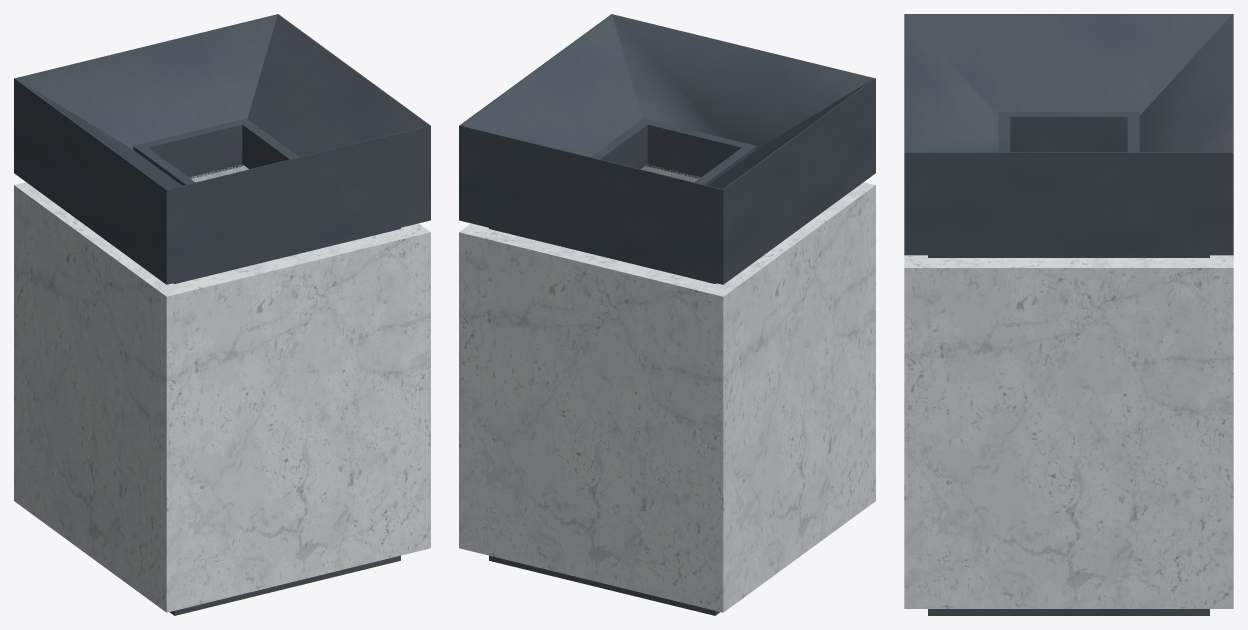
File: bote-basura-01.obj
3 views of the same model, side by side, from view 1: azimuth 30°, elevation 25°; view 2: azimuth 150°, elevation 25°; view 3: azimuth 270°, elevation 25° (orthographic). The views are drawn at different scales.
Visible parts, largest first — view 1: Box008, Box010, Box011, Box007, Box009; view 2: Box008, Box010, Box011, Box007; view 3: Box008, Box010, Box011, Box007, Box009.
Part boxes in pixels (x1,y1,x2,y2): Box008: (14, 165, 430, 612); Box010: (14, 14, 430, 284); Box011: (133, 118, 298, 185); Box007: (169, 555, 400, 615); Box009: (174, 164, 400, 283); Box008: (459, 164, 875, 612); Box010: (459, 14, 875, 284); Box011: (591, 118, 756, 185); Box007: (489, 555, 720, 615); Box008: (904, 255, 1233, 608); Box010: (904, 14, 1233, 255); Box011: (998, 112, 1139, 152); Box007: (928, 609, 1209, 615); Box009: (928, 255, 1209, 257).
Size of the model in its own units: 35 by 55.5 by 35.
